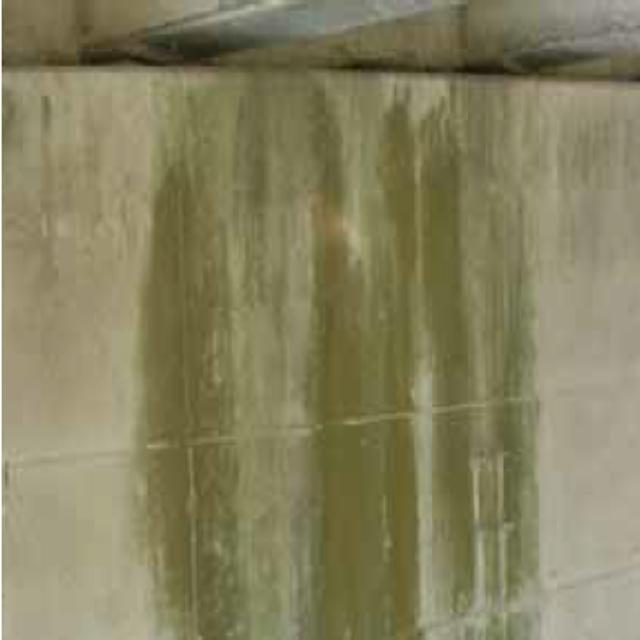leakage: (137, 55, 558, 640)
